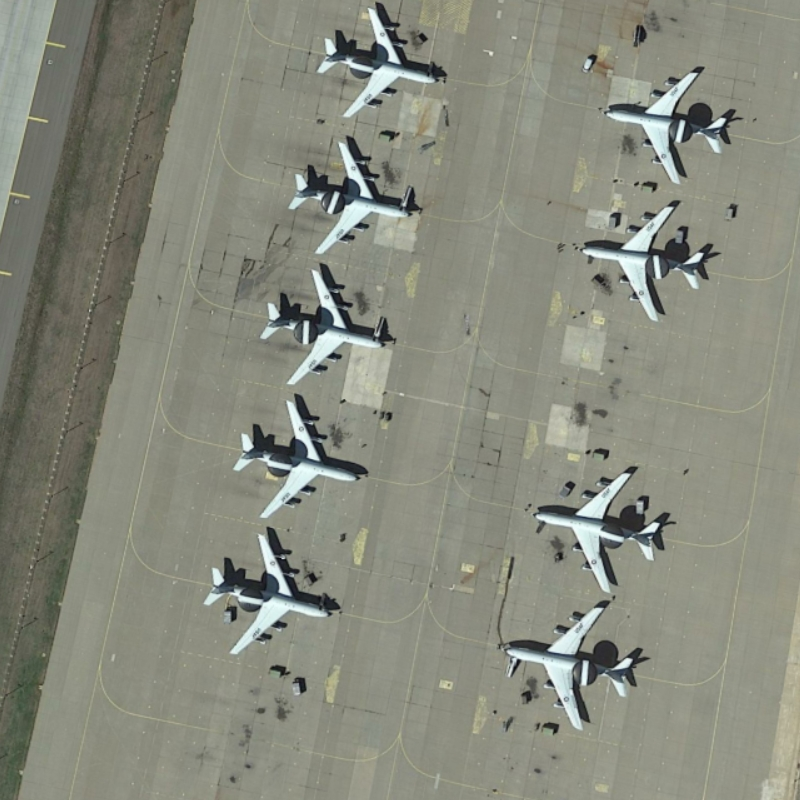A7: (228, 394, 376, 523), (528, 466, 668, 597), (197, 524, 334, 655), (247, 265, 391, 389), (574, 194, 711, 324), (501, 604, 635, 734), (598, 61, 733, 189), (282, 133, 419, 258), (315, 1, 446, 120)
